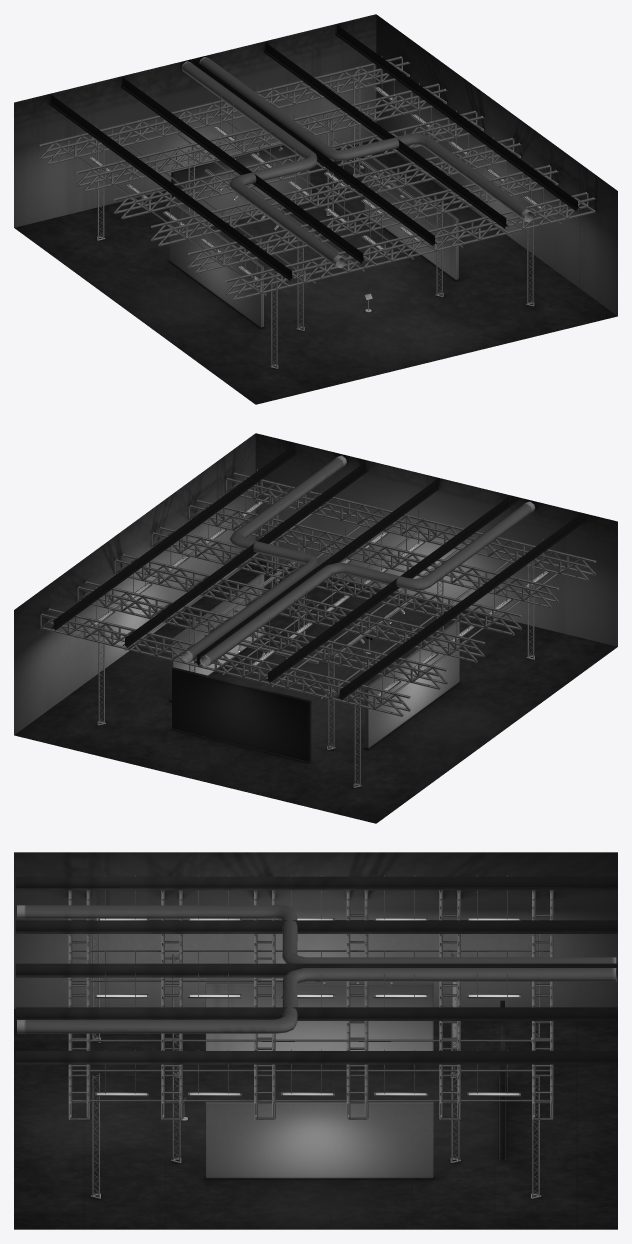
The picture shows the model from 3 angles, top to bottom: view 1: azimuth 30°, elevation 25°; view 2: azimuth 150°, elevation 25°; view 3: azimuth 270°, elevation 25°; orthographic projection. The views are drawn at different scales.
Visible parts, largest first — view 1: walls, Cube.012, Cube.003, Cube.011, Cube.009, Cube.004, Cube.001, Truss.001, Cube.005; view 2: walls, Cube.012, Cube.003, Cube.011, Cube.004, Cube.009, Cube.001, Truss.001, Cube.005, Cube.006; view 3: walls, Cube.003, Cube.009, Cube.011, Cube.012, Cube.005, Cube.001, Truss.001, Cube.004.
Boxes of the visible parts, x1,y1,x2,y2 form: walls: [14, 14, 617, 404]; Cube.012: [39, 56, 595, 300]; Cube.003: [49, 25, 580, 280]; Cube.011: [181, 57, 534, 268]; Cube.009: [169, 157, 459, 328]; Cube.004: [171, 145, 310, 224]; Cube.001: [88, 56, 548, 283]; Truss.001: [97, 77, 534, 368]; Cube.005: [73, 81, 561, 295]; walls: [14, 433, 617, 823]; Cube.012: [40, 472, 596, 716]; Cube.003: [51, 444, 581, 700]; Cube.011: [182, 455, 535, 666]; Cube.004: [170, 667, 312, 763]; Cube.009: [169, 574, 459, 749]; Cube.001: [90, 469, 549, 695]; Truss.001: [97, 496, 534, 787]; Cube.005: [75, 496, 563, 710]; Cube.006: [205, 561, 424, 657]; walls: [14, 852, 617, 1229]; Cube.003: [15, 876, 617, 1064]; Cube.009: [205, 982, 433, 1179]; Cube.011: [17, 905, 616, 1033]; Cube.012: [68, 890, 553, 1119]; Cube.005: [72, 920, 549, 1101]; Cube.001: [95, 875, 520, 1096]; Truss.001: [90, 918, 541, 1198]; Cube.004: [499, 1000, 506, 1161].
Bounding box in the file's own units: 33.73 × 11.2 × 38.94.
2 materials, 2 textured.
